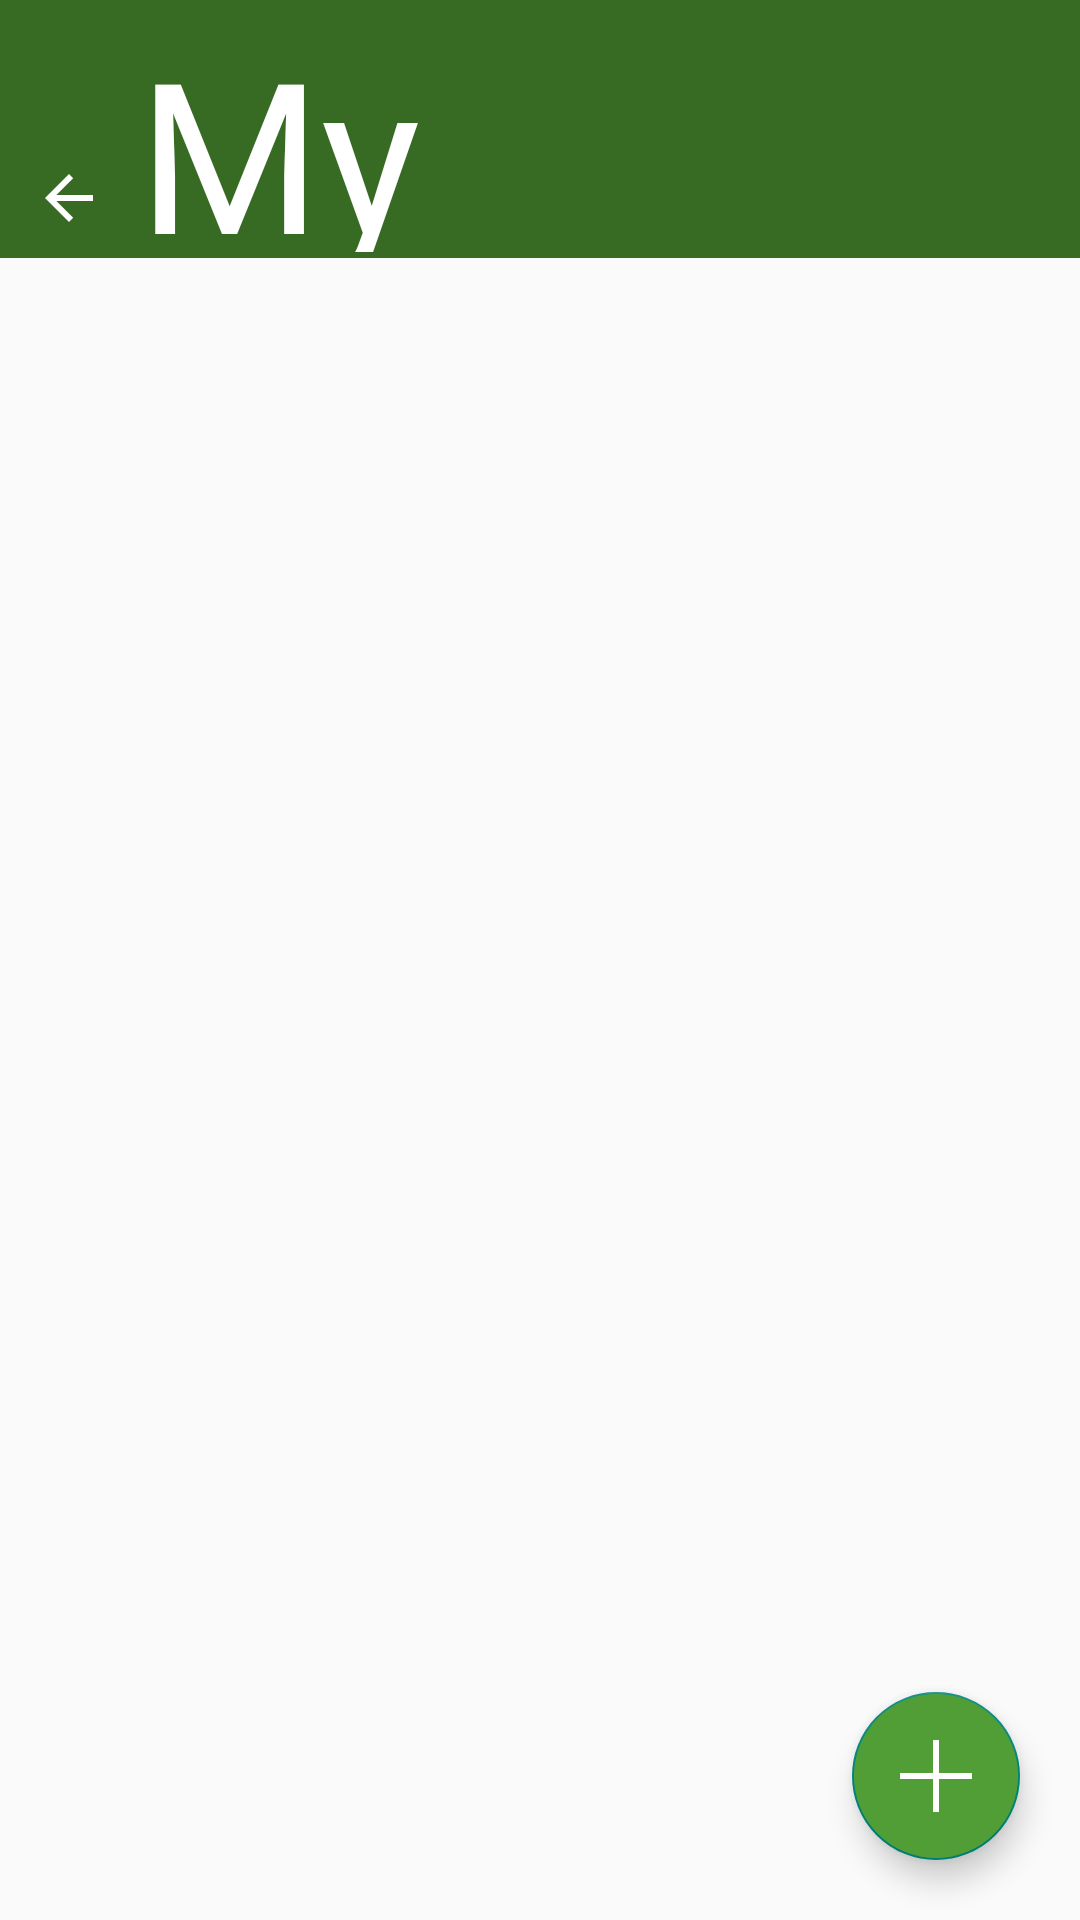

Icon click points for this 1080px x 1920px phone screenshot, format (x=x, y=y):
plus: (x=936, y=1776)
